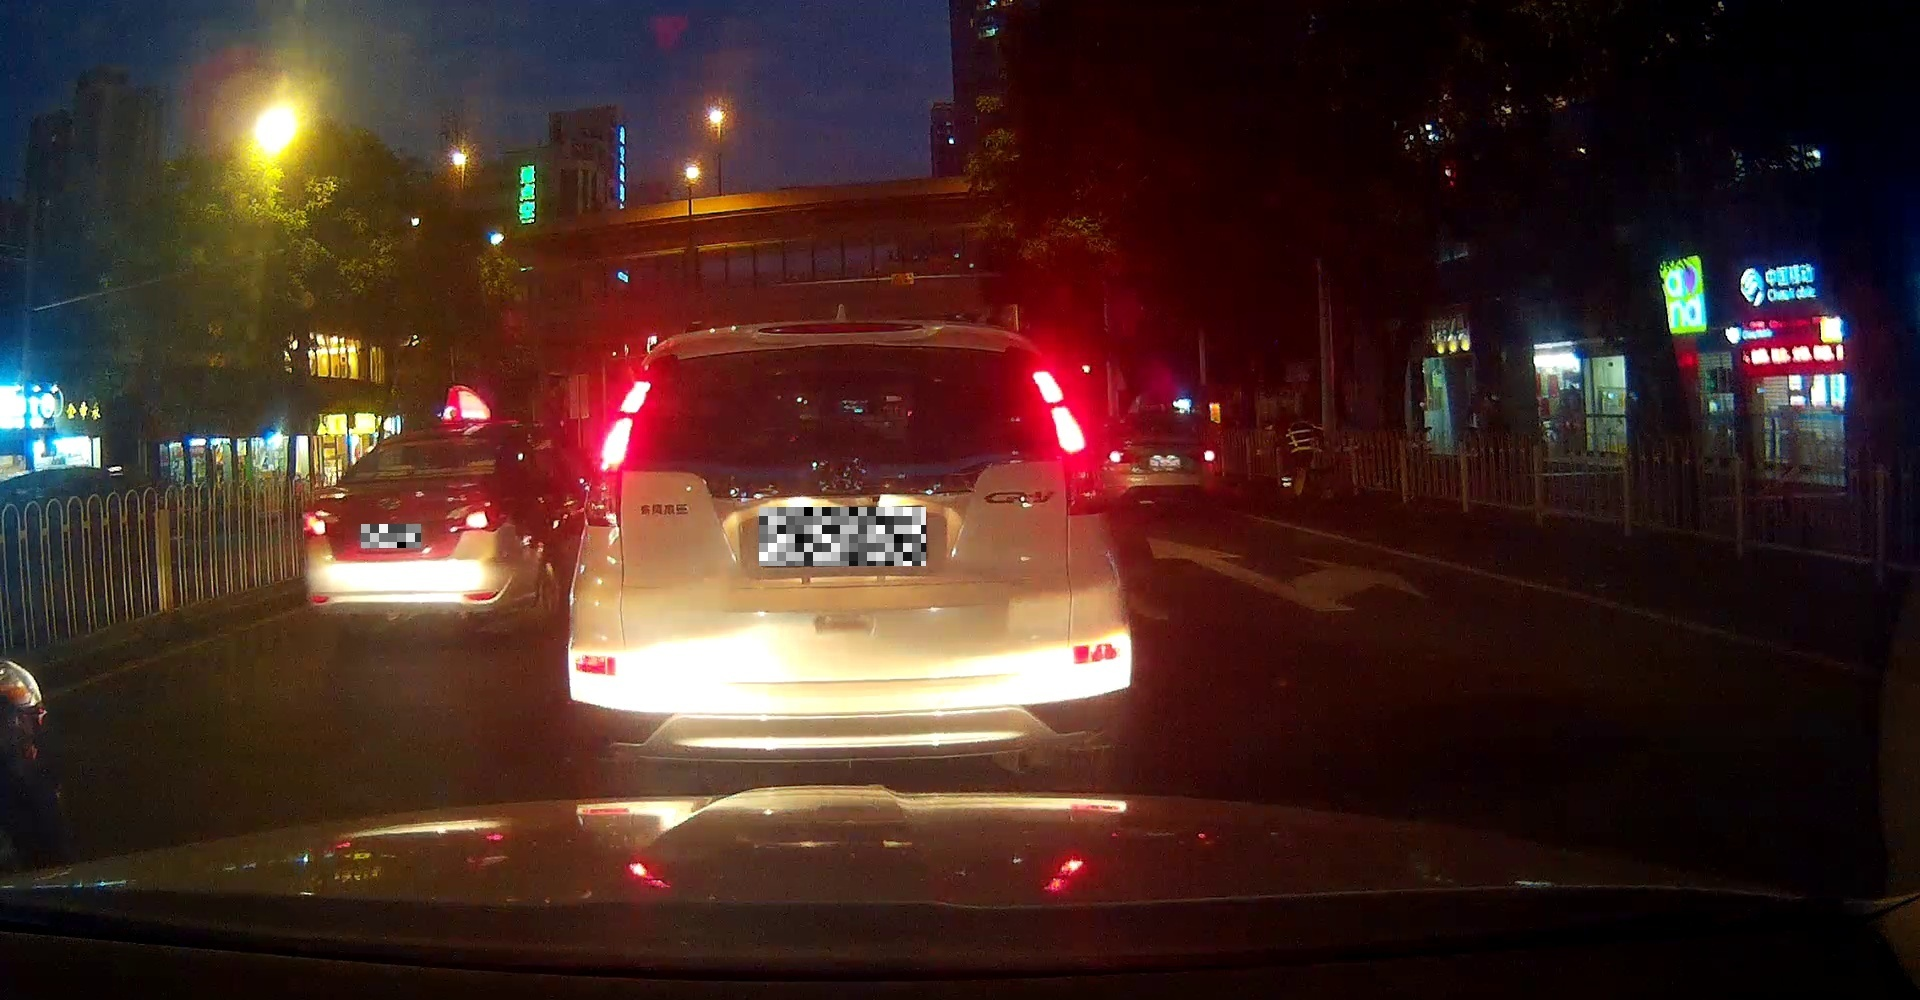L_light: (598, 378, 651, 470), (302, 509, 344, 537)
R_light: (1030, 369, 1086, 454), (443, 497, 505, 533)
T_light: (758, 322, 916, 335), (413, 439, 444, 445)
night-no: (565, 319, 1131, 796), (303, 425, 508, 637)
plate_1: (361, 524, 422, 548)
plate_2: (759, 508, 926, 566)
